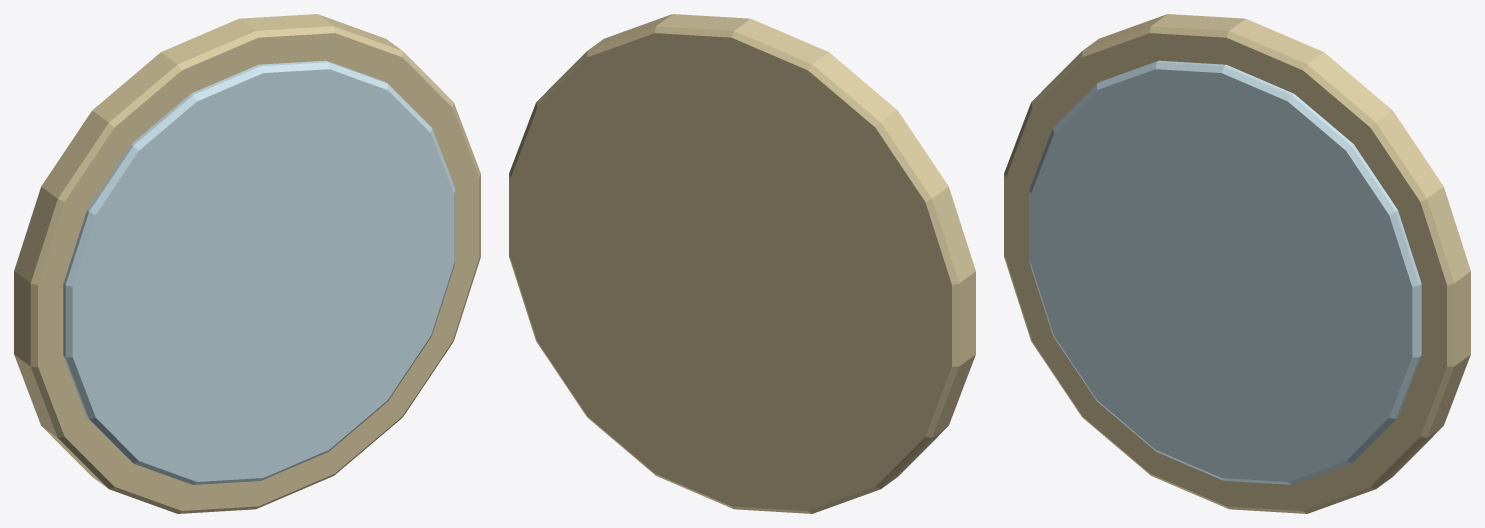
File: SM_Mirror_Wall.fbx
3 renders of one model, left to right at view 1: azimuth 30°, elevation 25°; view 2: azimuth 150°, elevation 25°; view 3: azimuth 330°, elevation 25°, orthographic.
Parts seen in each view (by area): view 1: Mirror_Wall; view 2: Mirror_Wall; view 3: Mirror_Wall.
Boxes of the visible parts, x1,y1,x2,y2 form: Mirror_Wall: (14,14,480,513); Mirror_Wall: (509,14,975,513); Mirror_Wall: (1004,14,1470,513).
Size of the model in its own units: 59.09 by 60 by 6.1.
